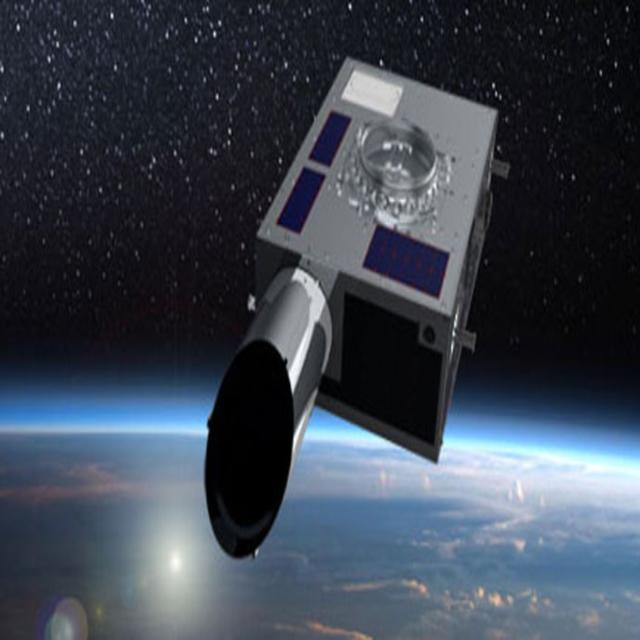sat: (201, 41, 512, 585)
